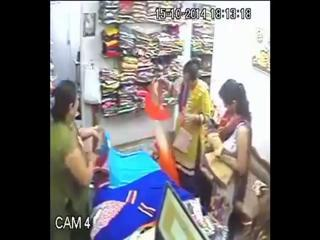Normal: (50, 80, 105, 240), (198, 79, 252, 237), (160, 58, 214, 215)
